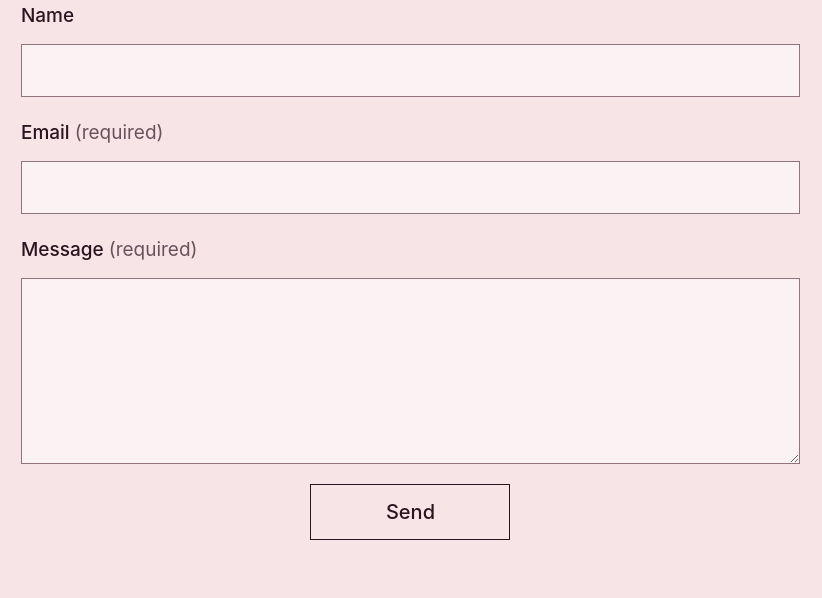
Test case: ContactForm › clears the alert on the next submit
The width and height of the screenshot is (822, 598).
Later steps or results of the test are not shown.
Type "Ada Lovelace" into the field labelled "Name" at x=410, y=71, box [21,44,800,97]
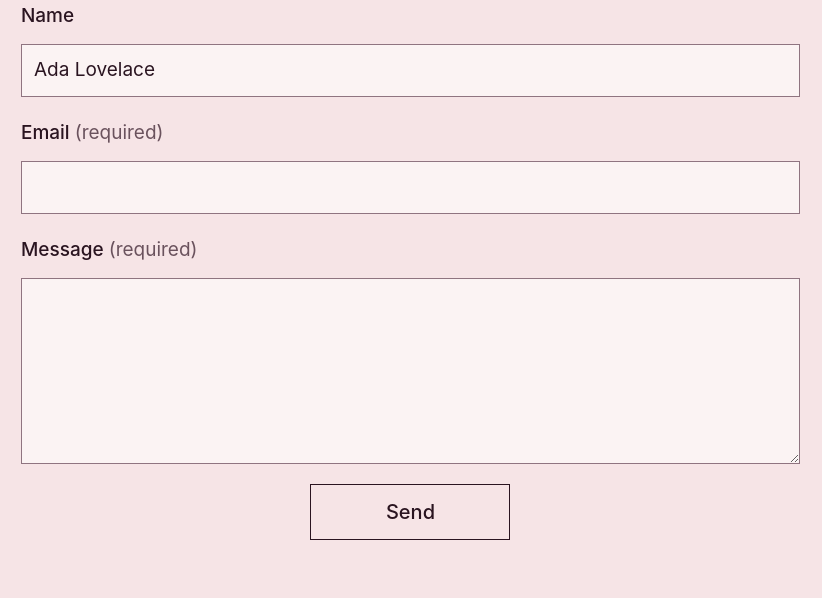
Type "ada@example.com" into the field labelled "Email (required)" at x=410, y=188, box [21,161,800,214]
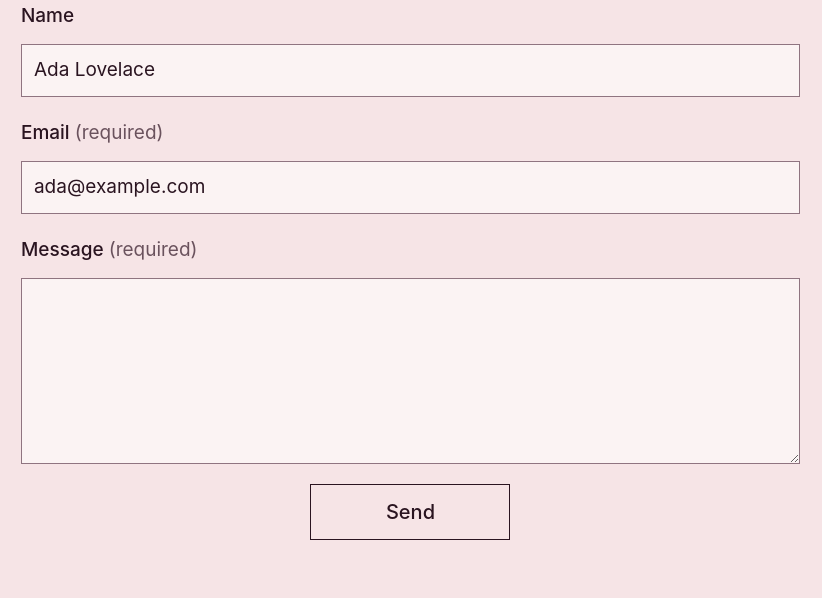
Type "Hello Rachel" into the text box labelled "Message (required)" at x=410, y=371, box [21,278,800,464]
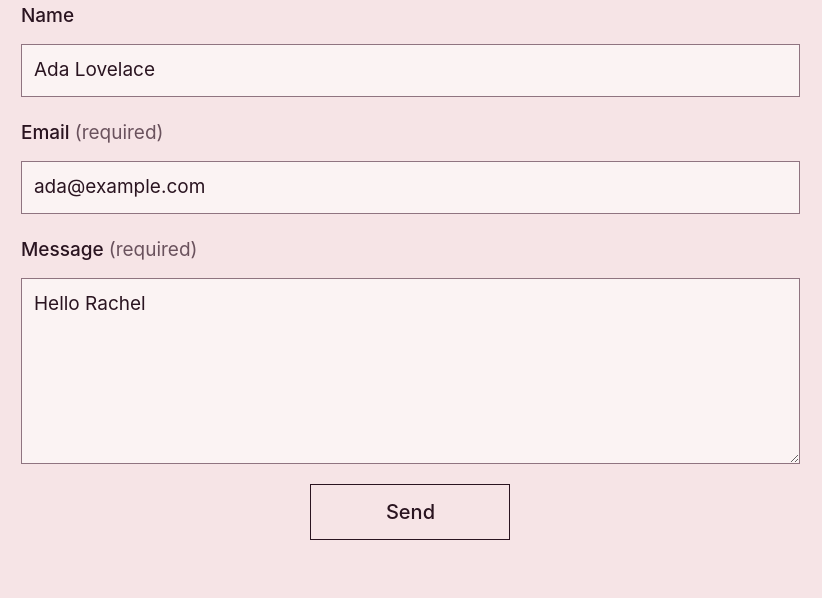
Click the button "Send" at x=410, y=512, box [310,484,510,540]
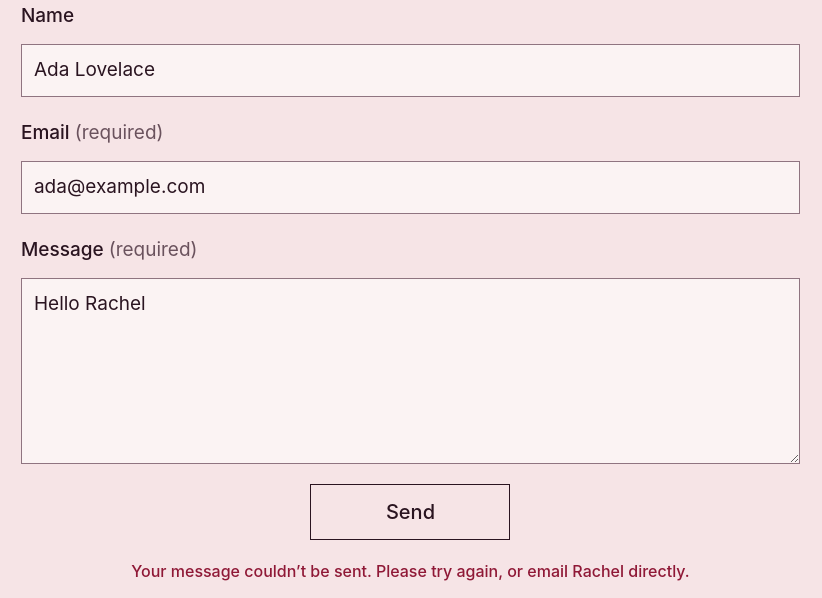
Clear the field labelled "Email (required)" at x=410, y=188, box [21,161,800,214]
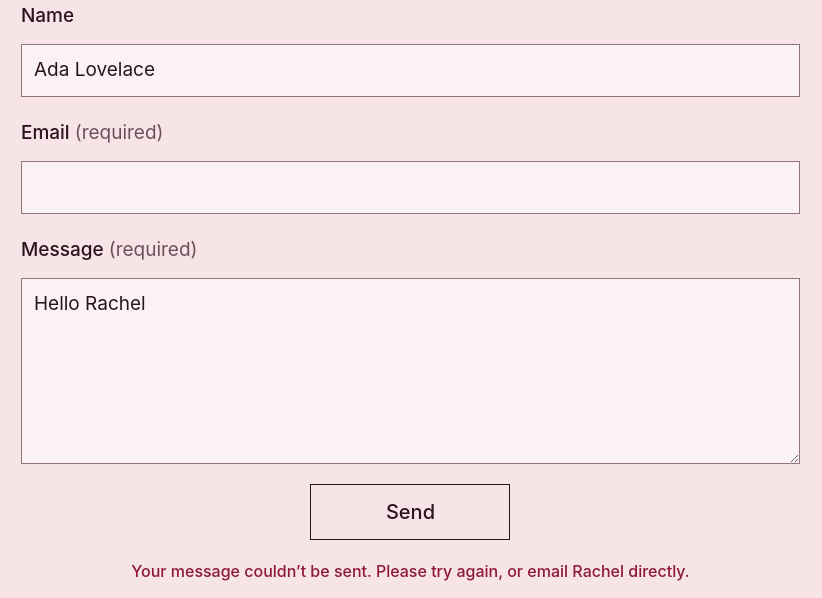
Click the button "Send" at x=410, y=512, box [310,484,510,540]
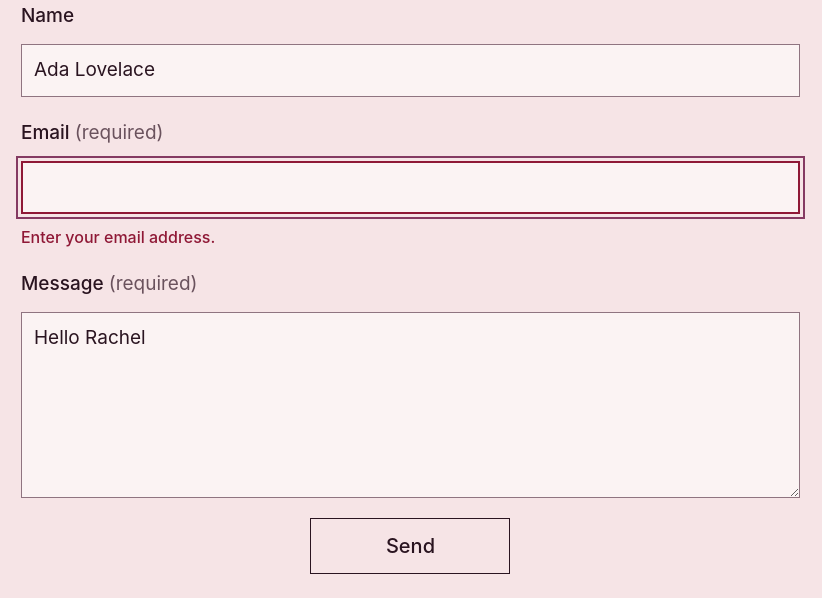
Result: the message "Your message couldn’t be sent. Please try again, or email Rachel directly ." is gone
Result: the text with id "contact-email-error" reads "Enter your email address." at [21,227,215,247]
